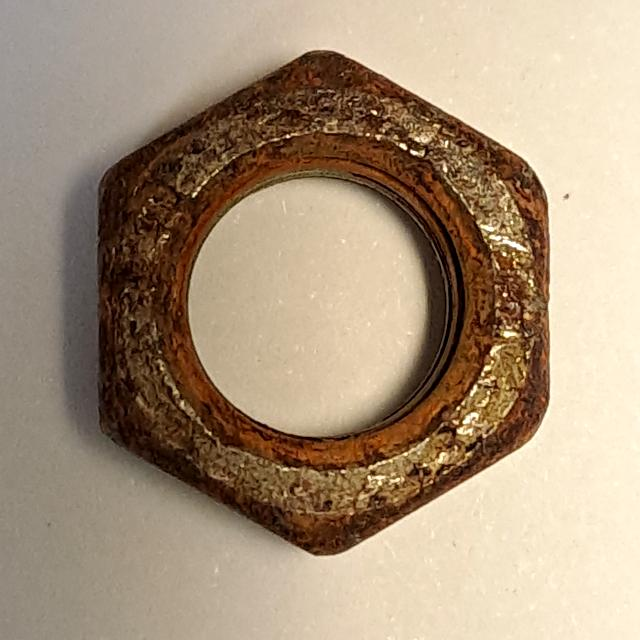Rust: (77, 36, 577, 573)
